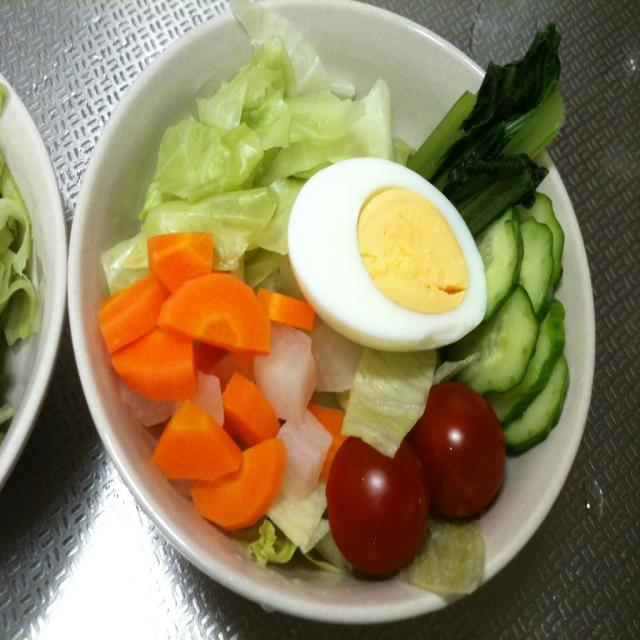Egg: (284, 154, 490, 353)
